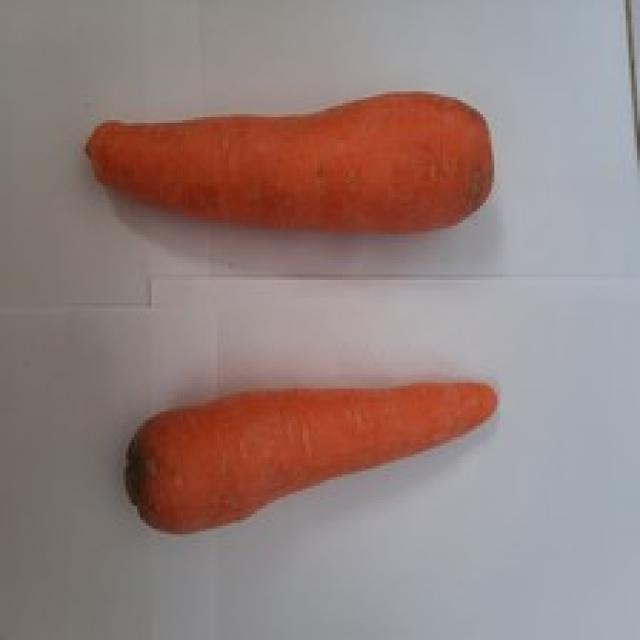Fresh_Carrot: (68, 92, 508, 242), (104, 368, 502, 531)
